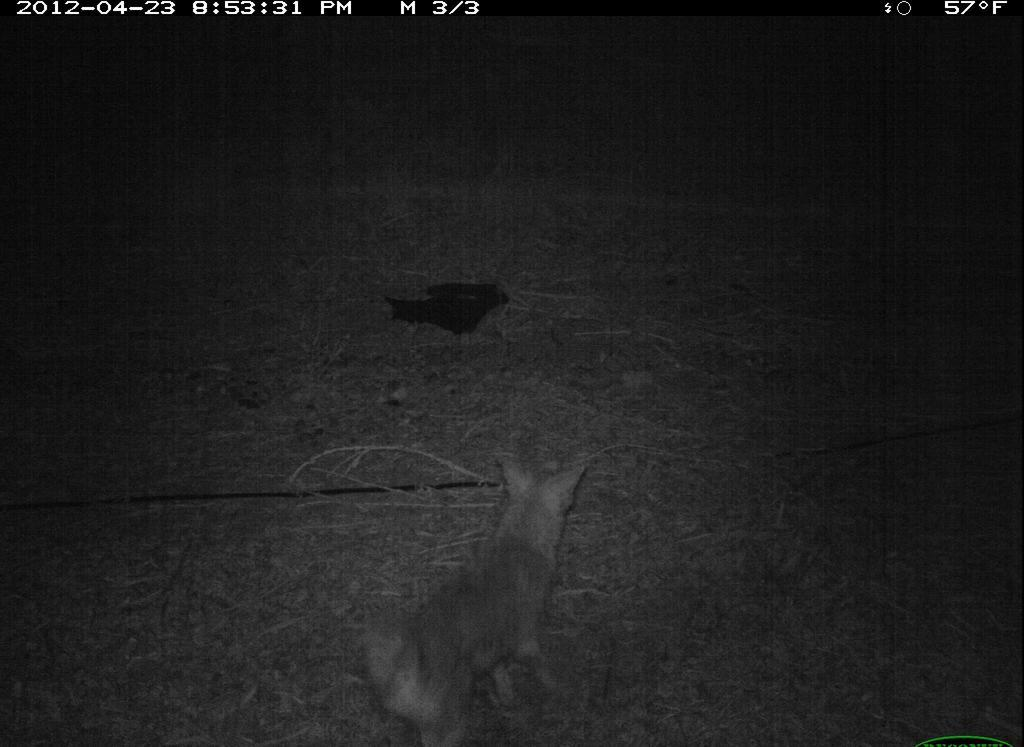coyote: (358, 427, 637, 745)
